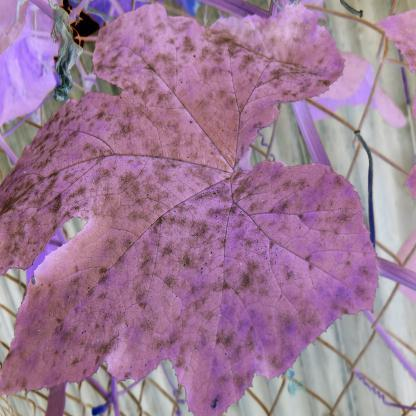Squash Powdery mildew leaf: (0, 2, 360, 404)
